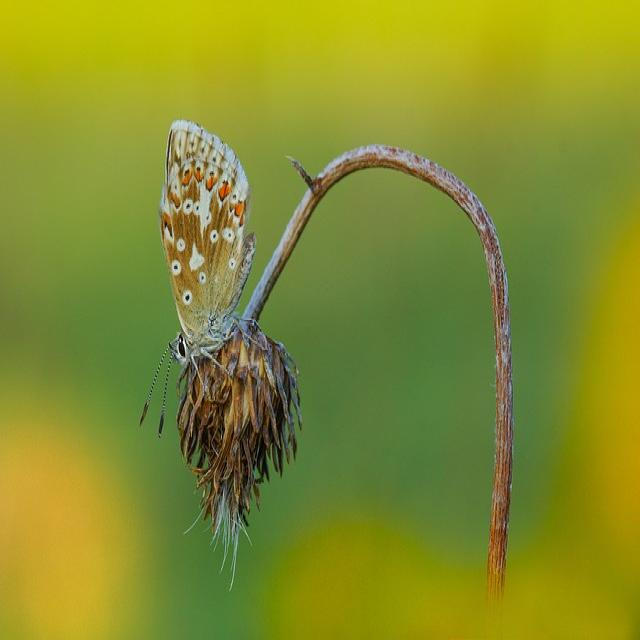butterfly: (142, 120, 255, 422)
